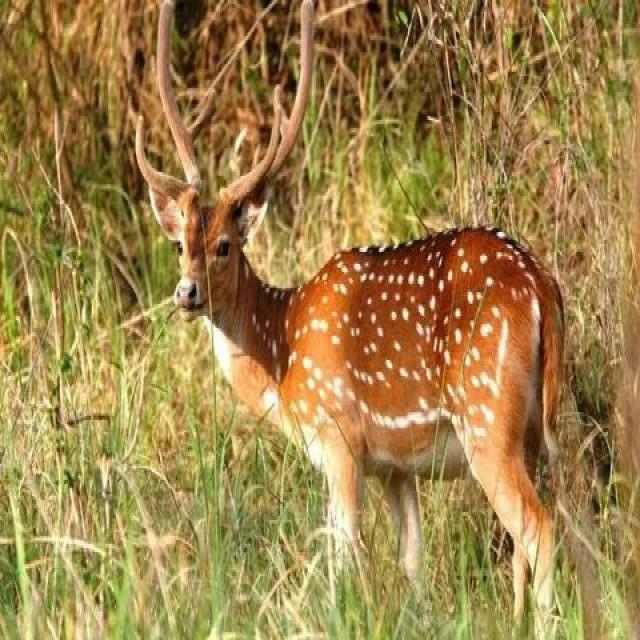deer: (139, 121, 606, 539)
